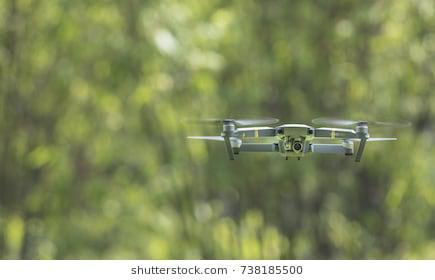drone: (175, 96, 421, 195)
